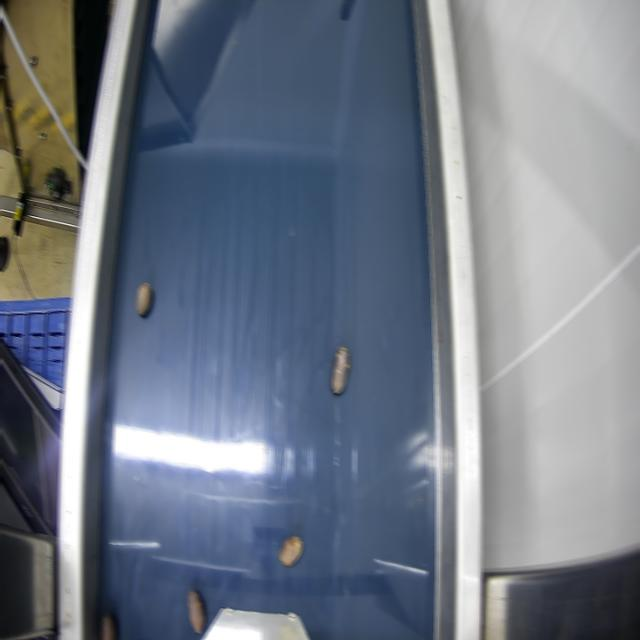Baby Potato: (331, 345, 348, 393), (187, 589, 204, 633), (280, 537, 301, 566), (136, 282, 151, 315), (98, 613, 115, 639)
